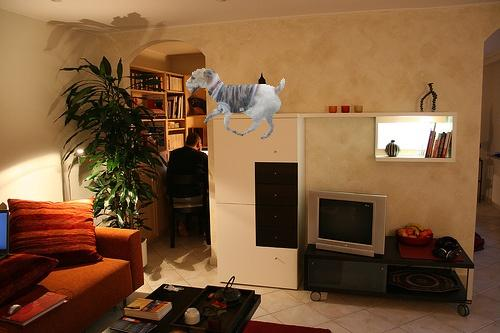tampered: (187, 69, 285, 139)
